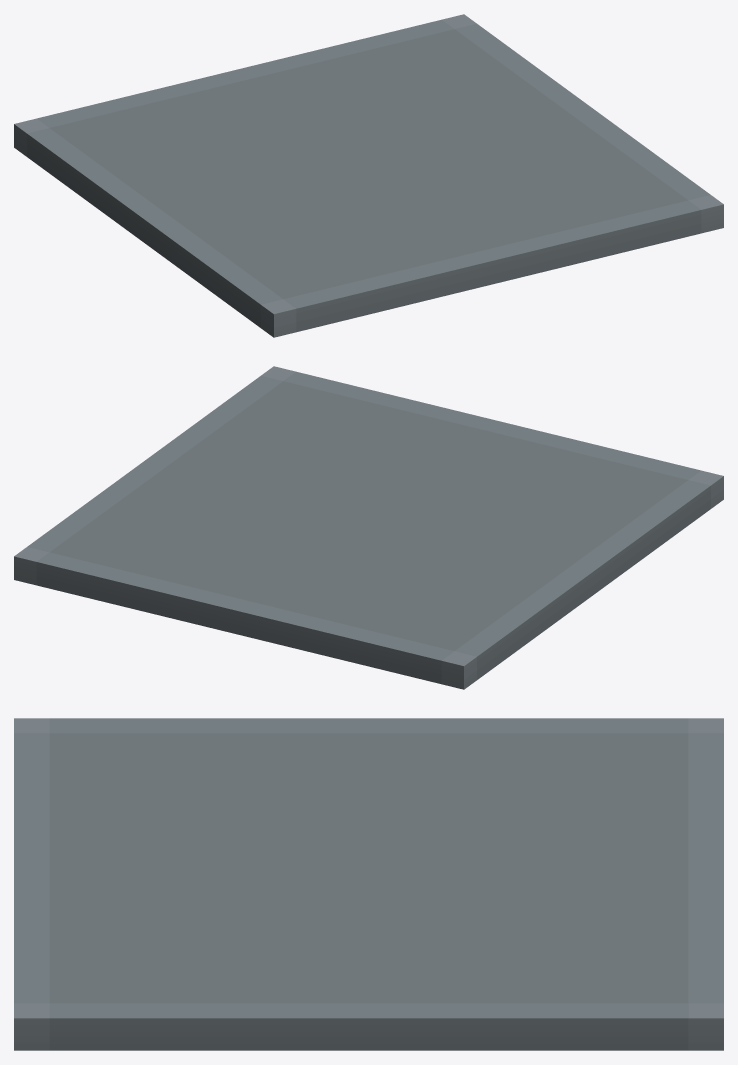
File: base_free_model.glb
The picture shows the model from 3 angles, top to bottom: view 1: azimuth 30°, elevation 25°; view 2: azimuth 150°, elevation 25°; view 3: azimuth 270°, elevation 25°; orthographic projection. The views are drawn at different scales.
Parts seen in each view (by area): view 1: base; view 2: base; view 3: base.
Part boxes in pixels (bbox=[...]): base: bbox=[14, 14, 723, 337]; base: bbox=[14, 366, 723, 689]; base: bbox=[14, 718, 723, 1050].
Size of the model in its own units: 2 by 0.1 by 2.
1 material, 1 textured.
